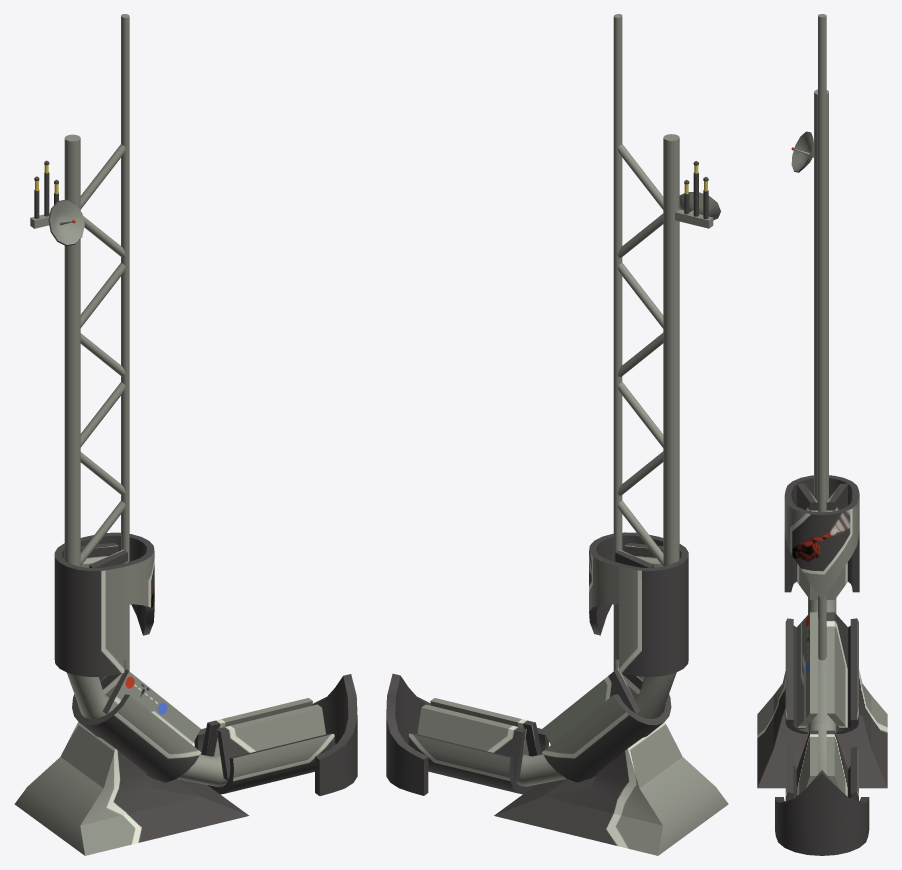
Rendered from com tower.fbx.
The picture shows the model from 3 angles, left to right: view 1: azimuth 30°, elevation 25°; view 2: azimuth 150°, elevation 25°; view 3: azimuth 270°, elevation 25°; orthographic projection. The views are drawn at different scales.
Parts seen in each view (by area): view 1: pCube15; view 2: pCube15; view 3: pCube15.
Part boxes in pixels (x1,y1,x2,y2): pCube15: (14, 14, 357, 855); pCube15: (386, 14, 728, 855); pCube15: (757, 14, 887, 855).
Bounding box in the file's own units: 25.17 × 60.6 × 9.68.
